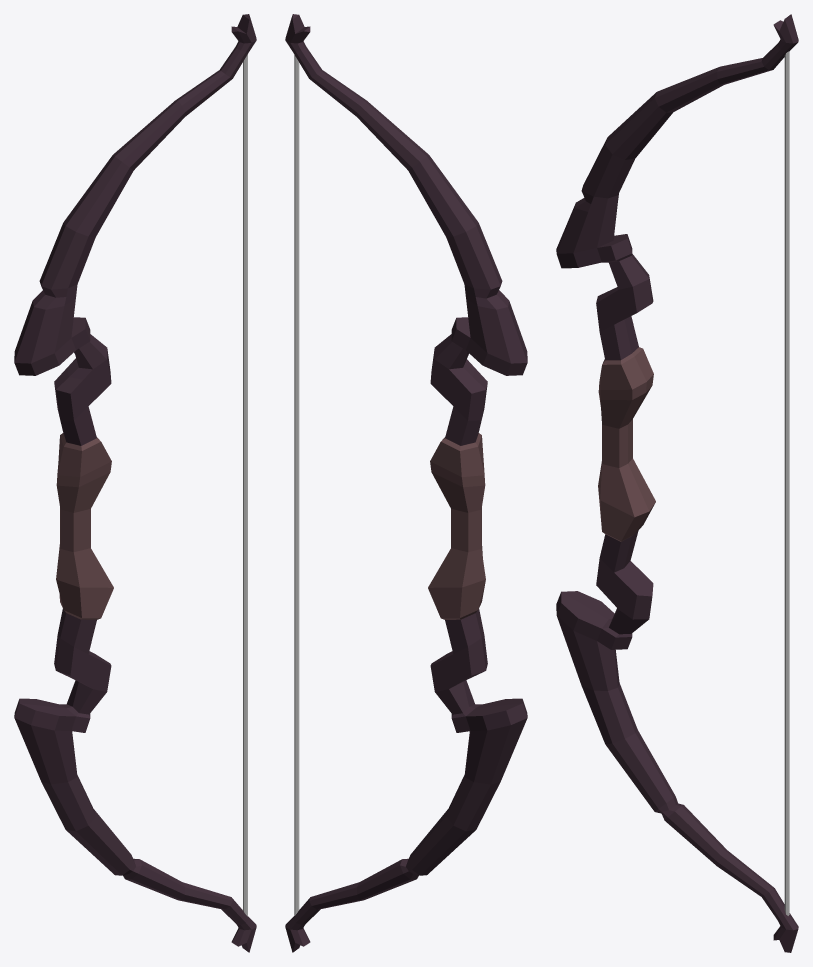
The model's file is bow.glb.
3 views of the same model, side by side, from view 1: azimuth 30°, elevation 25°; view 2: azimuth 150°, elevation 25°; view 3: azimuth 330°, elevation 25° (orthographic).
Visible parts, largest first — view 1: Bow_Wooden; view 2: Bow_Wooden; view 3: Bow_Wooden.
Boxes of the visible parts, <box> form: Bow_Wooden: <box>14,14,256,952</box>; Bow_Wooden: <box>285,14,527,952</box>; Bow_Wooden: <box>556,14,798,952</box>.
Bounding box in the file's own units: 53.29 × 197 × 8.84.
